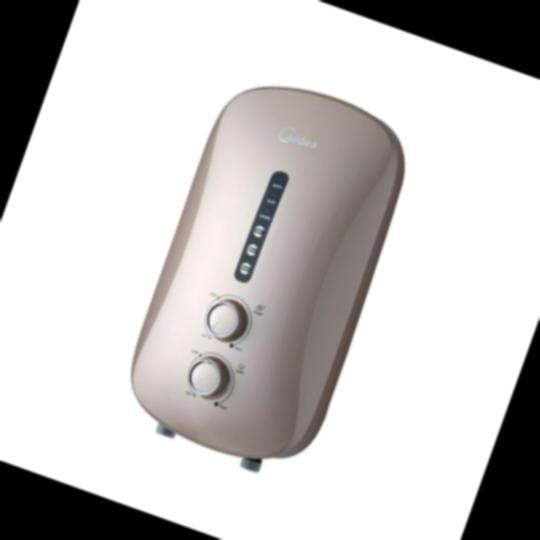Ducha: (81, 38, 455, 501)
